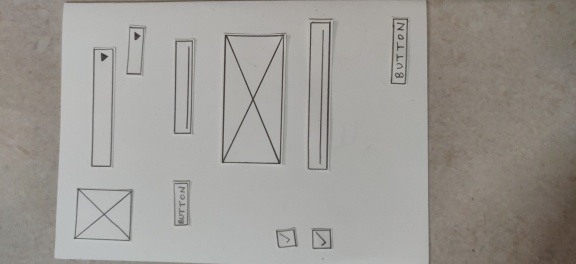button: (386, 14, 412, 92), (168, 177, 193, 230)
checkbox: (307, 226, 336, 252), (273, 226, 299, 251)
dropdown: (87, 44, 117, 170), (123, 21, 147, 80)
img: (217, 31, 290, 168), (70, 185, 136, 244)
text: (303, 16, 336, 173), (170, 36, 198, 138)
